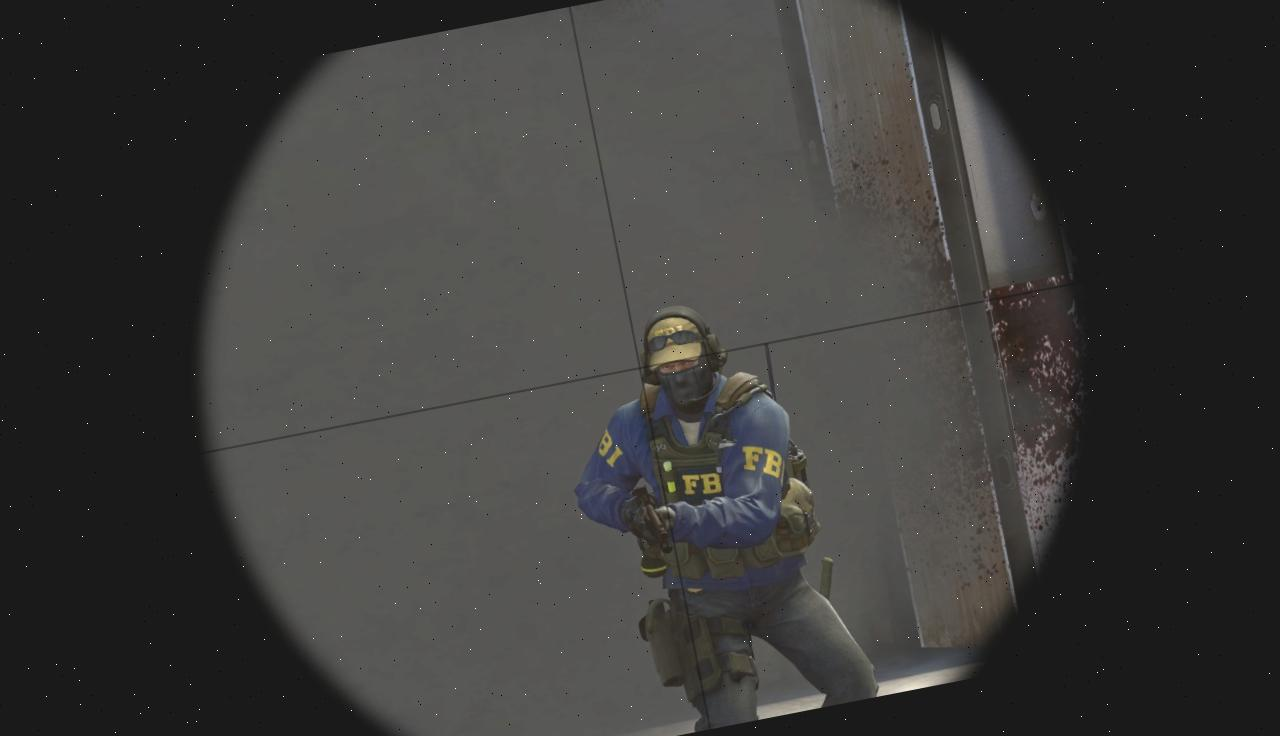ct: (586, 285, 848, 733)
cthead: (634, 302, 724, 422)
